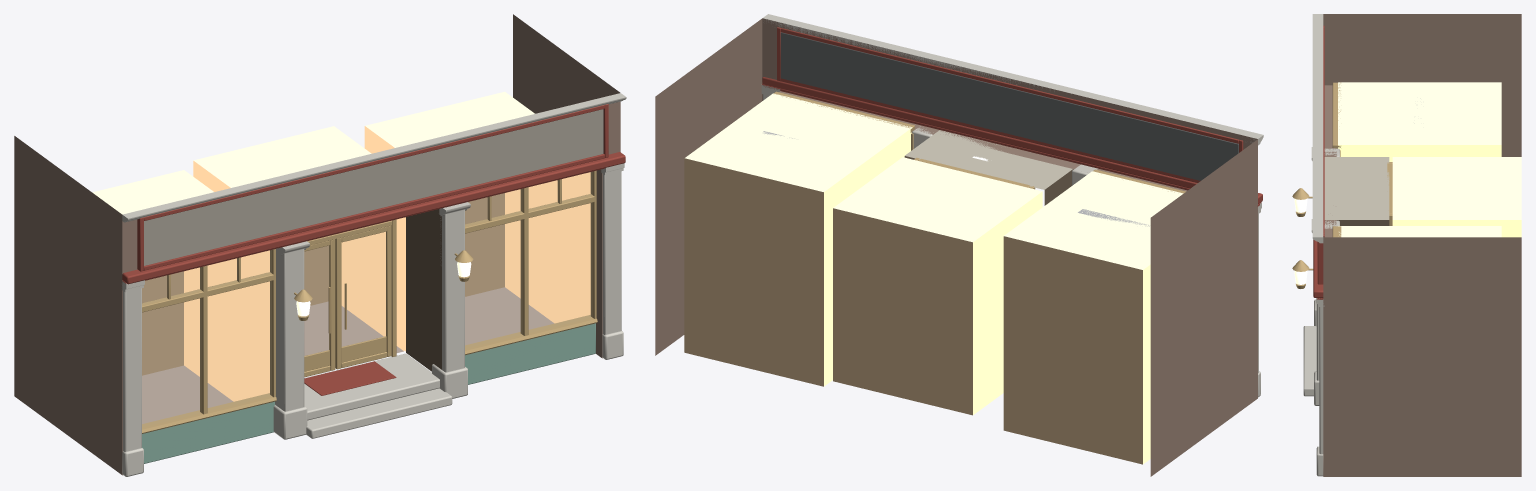
The model's file is inn_8a.glb.
The picture shows the model from 3 angles, left to right: view 1: azimuth 30°, elevation 25°; view 2: azimuth 150°, elevation 25°; view 3: azimuth 270°, elevation 25°; orthographic projection. The views are drawn at different scales.
Visible parts, largest first — view 1: inn_8a; view 2: inn_8a; view 3: inn_8a.
Part boxes in pixels (x1,y1,x2,y2): inn_8a: [14, 14, 626, 476]; inn_8a: [655, 14, 1263, 476]; inn_8a: [1292, 14, 1521, 476].
Bounding box in the file's own units: 8 × 4 × 3.47.
